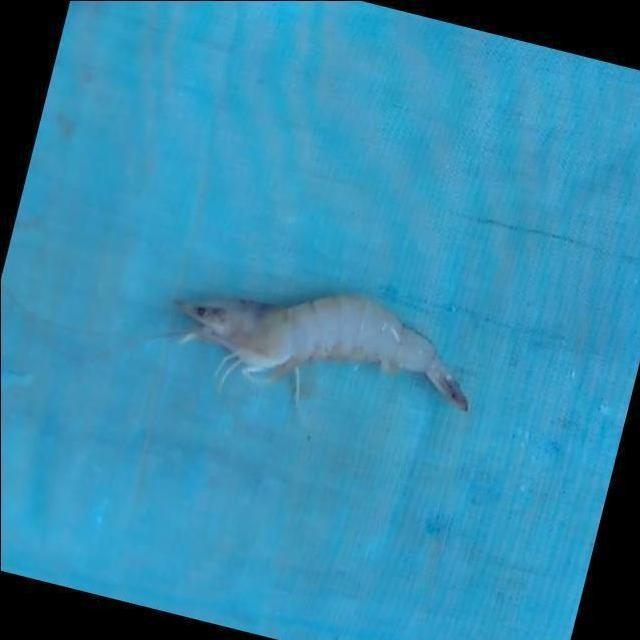shrimp: (178, 295, 469, 410)
